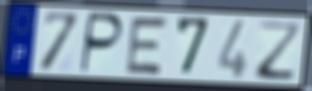4: (216, 17, 249, 81)
7: (39, 10, 80, 74), (176, 15, 211, 78)
E: (123, 15, 171, 77)
P: (78, 10, 126, 76)
Z: (255, 20, 304, 83)
